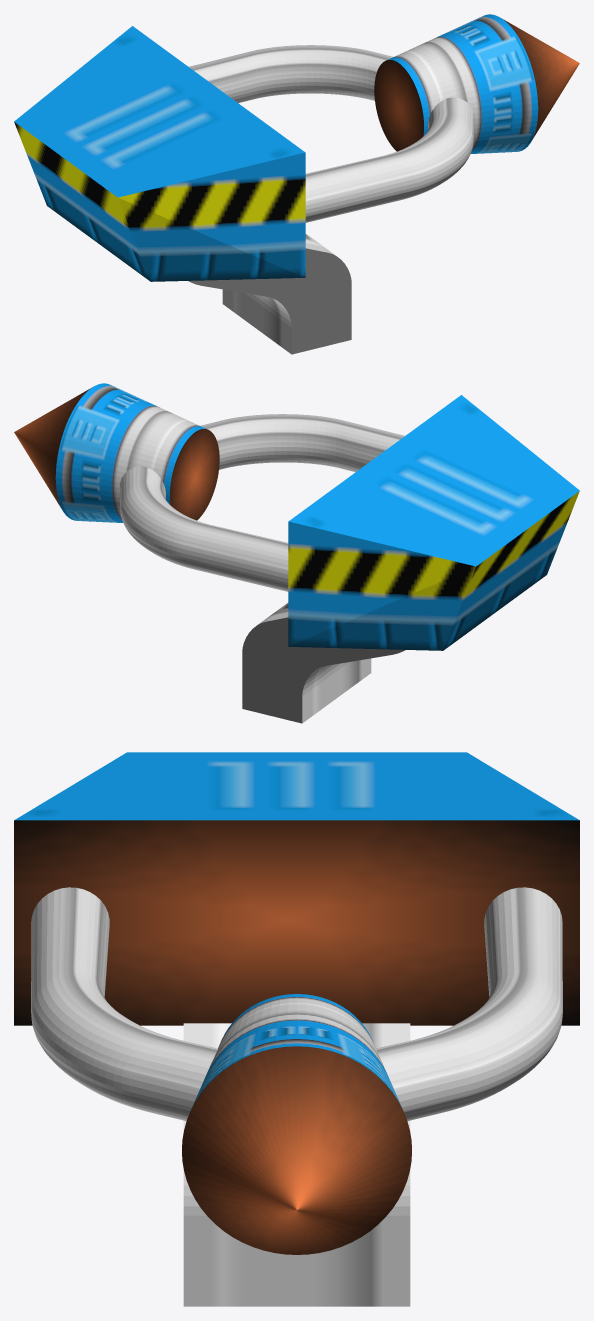
The model's file is canoni1.obj.
3 renders of one model, top to bottom at view 1: azimuth 30°, elevation 25°; view 2: azimuth 150°, elevation 25°; view 3: azimuth 270°, elevation 25°, orthographic. The views are drawn at different scales.
Parts seen in each view (by area): view 1: Case_ColobotMesh_.003, New_canon_Circle, Holder_new_ColobotMesh_.004, Stand_new_ColobotMesh_.000; view 2: Case_ColobotMesh_.003, New_canon_Circle, Holder_new_ColobotMesh_.004, Stand_new_ColobotMesh_.000; view 3: Case_ColobotMesh_.003, New_canon_Circle, Holder_new_ColobotMesh_.004, Stand_new_ColobotMesh_.000.
Boxes of the visible parts, <box> form: Case_ColobotMesh_.003: <box>14,26,305,281</box>; New_canon_Circle: <box>374,14,579,153</box>; Holder_new_ColobotMesh_.004: <box>189,45,474,222</box>; Stand_new_ColobotMesh_.000: <box>188,234,351,354</box>; Case_ColobotMesh_.003: <box>288,395,579,650</box>; New_canon_Circle: <box>14,383,219,522</box>; Holder_new_ColobotMesh_.004: <box>119,414,404,591</box>; Stand_new_ColobotMesh_.000: <box>242,603,405,723</box>; Case_ColobotMesh_.003: <box>14,752,579,1025</box>; New_canon_Circle: <box>182,994,411,1254</box>; Holder_new_ColobotMesh_.004: <box>31,887,562,1120</box>; Stand_new_ColobotMesh_.000: <box>183,1023,410,1306</box>.
Size of the model in its own units: 8.58 by 3.99 by 5.
